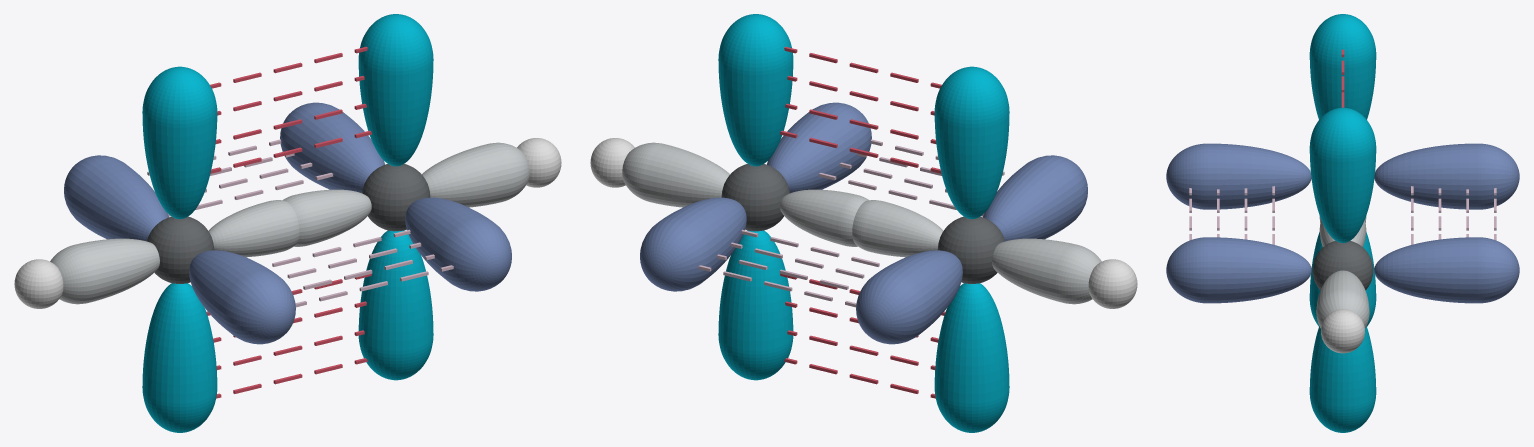
Rendered from ethyne.glb.
3 renders of one model, left to right at view 1: azimuth 30°, elevation 25°; view 2: azimuth 150°, elevation 25°; view 3: azimuth 270°, elevation 25°, orthographic. The views are drawn at different scales.
Parts seen in each view (by area): view 1: Mesh_Mesh_head_geo.001_lambert2SG.001; view 2: Mesh_Mesh_head_geo.001_lambert2SG.001; view 3: Mesh_Mesh_head_geo.001_lambert2SG.001.
Part boxes in pixels (x1,y1,x2,y2): Mesh_Mesh_head_geo.001_lambert2SG.001: (14,14,561,432); Mesh_Mesh_head_geo.001_lambert2SG.001: (590,14,1137,432); Mesh_Mesh_head_geo.001_lambert2SG.001: (1166,14,1519,432).
Size of the model in its own units: 0.3574 by 0.2279 by 0.2279.
